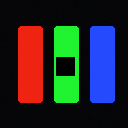1 square: (56, 57, 74, 75)
